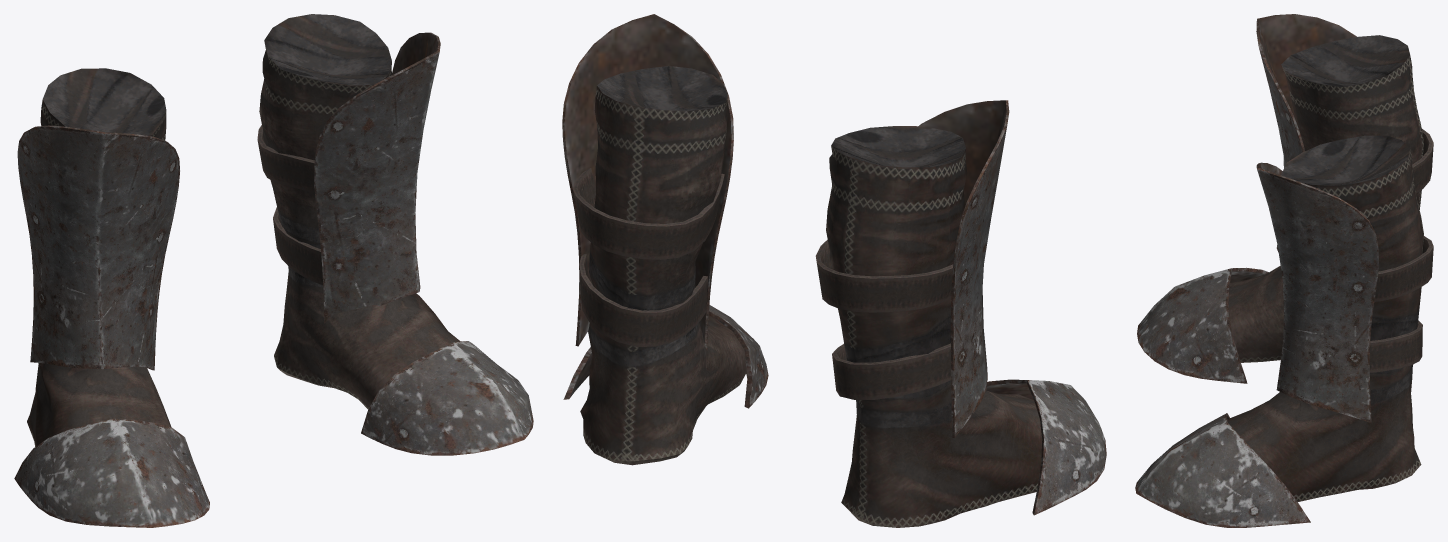
File: sk_gb_uruk_boots_heavy_f.fbx
3 views of the same model, side by side, from view 1: azimuth 30°, elevation 25°; view 2: azimuth 150°, elevation 25°; view 3: azimuth 270°, elevation 25° (orthographic). The views are drawn at different scales.
Visible parts, largest first — view 1: sk_gb_uruk_boots_heavy_f.0, sk_gb_uruk_boots_heavy_f.1; view 2: sk_gb_uruk_boots_heavy_f.0, sk_gb_uruk_boots_heavy_f.1; view 3: sk_gb_uruk_boots_heavy_f.0, sk_gb_uruk_boots_heavy_f.1.
Boxes of the visible parts, left/top/right/bottom form: sk_gb_uruk_boots_heavy_f.0: left=14, top=14, right=533, bottom=527; sk_gb_uruk_boots_heavy_f.1: left=257, top=125, right=322, bottom=285; sk_gb_uruk_boots_heavy_f.0: left=562, top=14, right=1106, bottom=527; sk_gb_uruk_boots_heavy_f.1: left=573, top=168, right=953, bottom=399; sk_gb_uruk_boots_heavy_f.0: left=1135, top=14, right=1423, bottom=527; sk_gb_uruk_boots_heavy_f.1: left=1369, top=128, right=1433, bottom=372.
Bounding box in the file's own units: 0.5932 × 0.3533 × 0.4302.
Materials: 2 (2 with a texture image).
